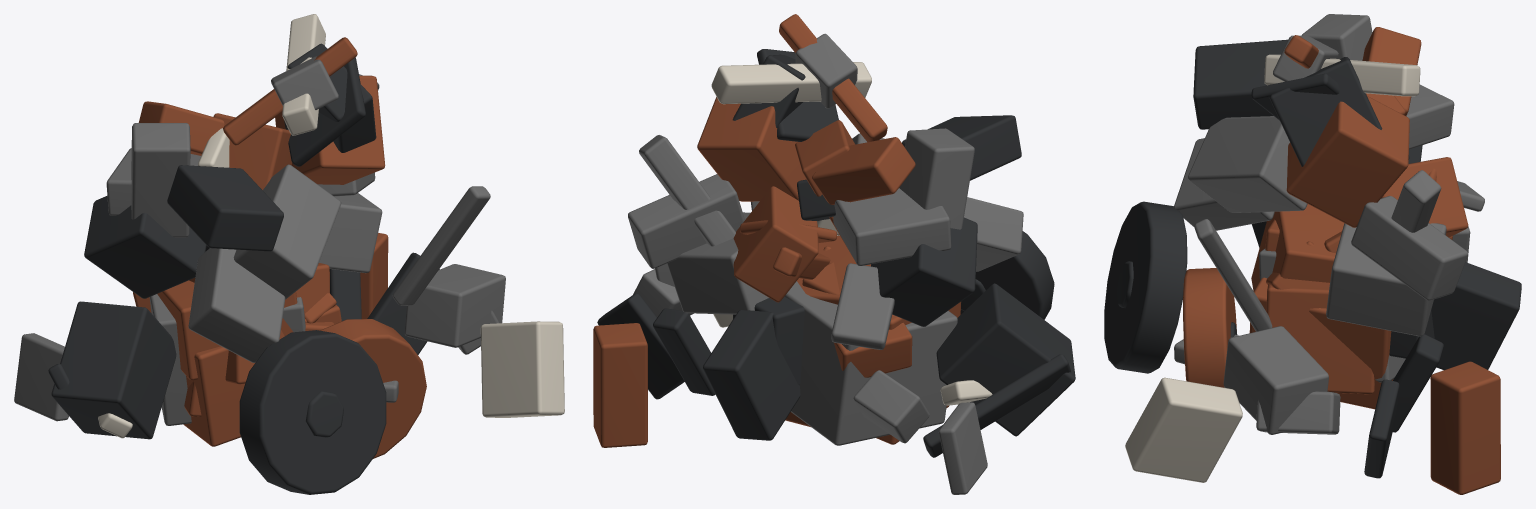
File: scrap-pile-b.glb
3 renders of one model, left to right at view 1: azimuth 30°, elevation 25°; view 2: azimuth 150°, elevation 25°; view 3: azimuth 270°, elevation 25°, orthographic. The views are drawn at different scales.
Visible parts, largest first — view 1: scrap-pile-b; view 2: scrap-pile-b; view 3: scrap-pile-b.
Part boxes in pixels (bbox=[...]): scrap-pile-b: bbox=[14, 14, 564, 494]; scrap-pile-b: bbox=[593, 14, 1075, 494]; scrap-pile-b: bbox=[1104, 14, 1521, 494].
Size of the model in its own units: 3.98 by 3.31 by 3.14.
